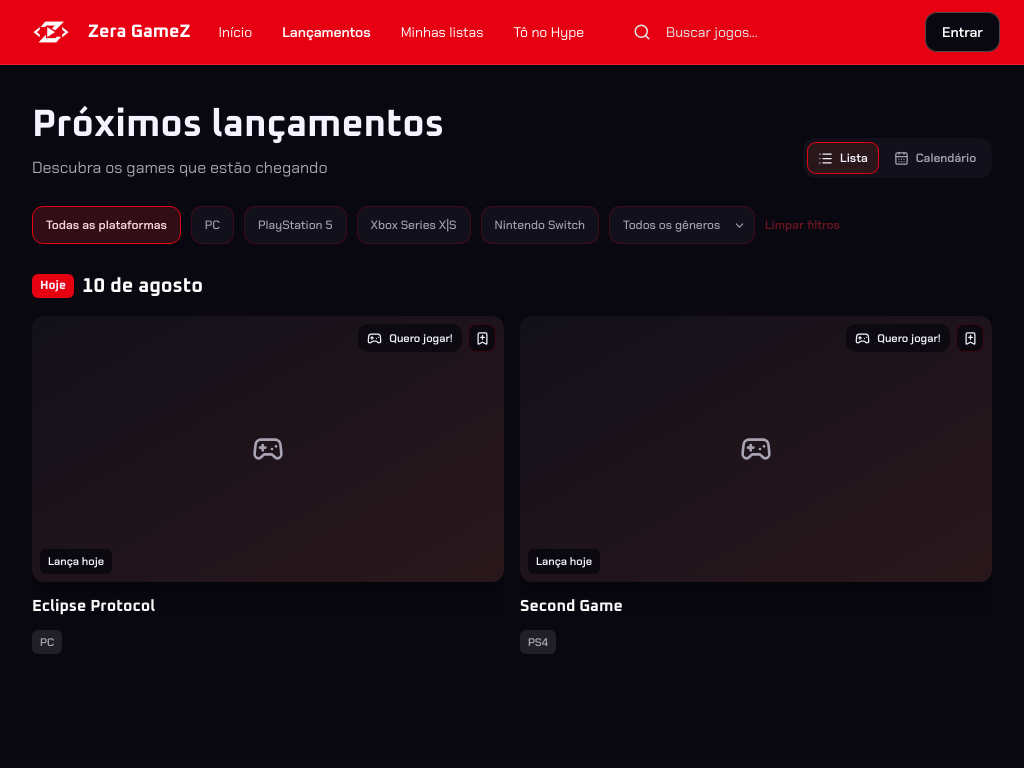
it: Zera GameZ › reopens on the selected date month after choosing an adjacent-month day
The image size is (1024, 768).
Click the button "Calendário": click(935, 158) [883,142,987,174]
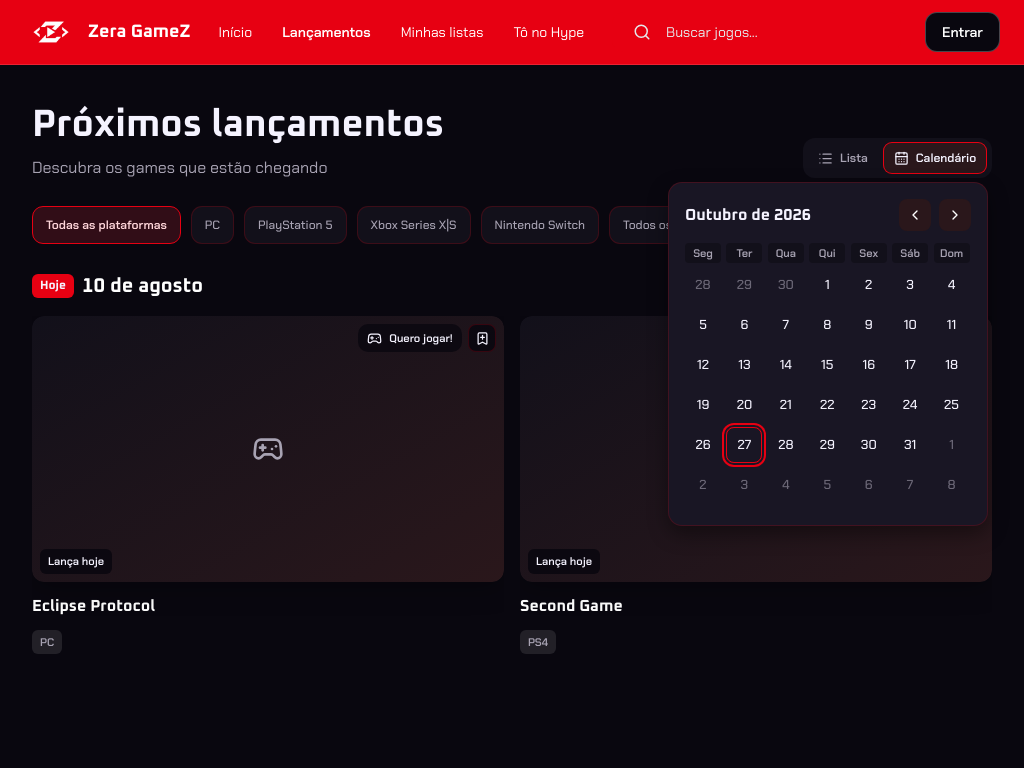
Click the 1st button "28": click(703, 285) [685,267,721,303]
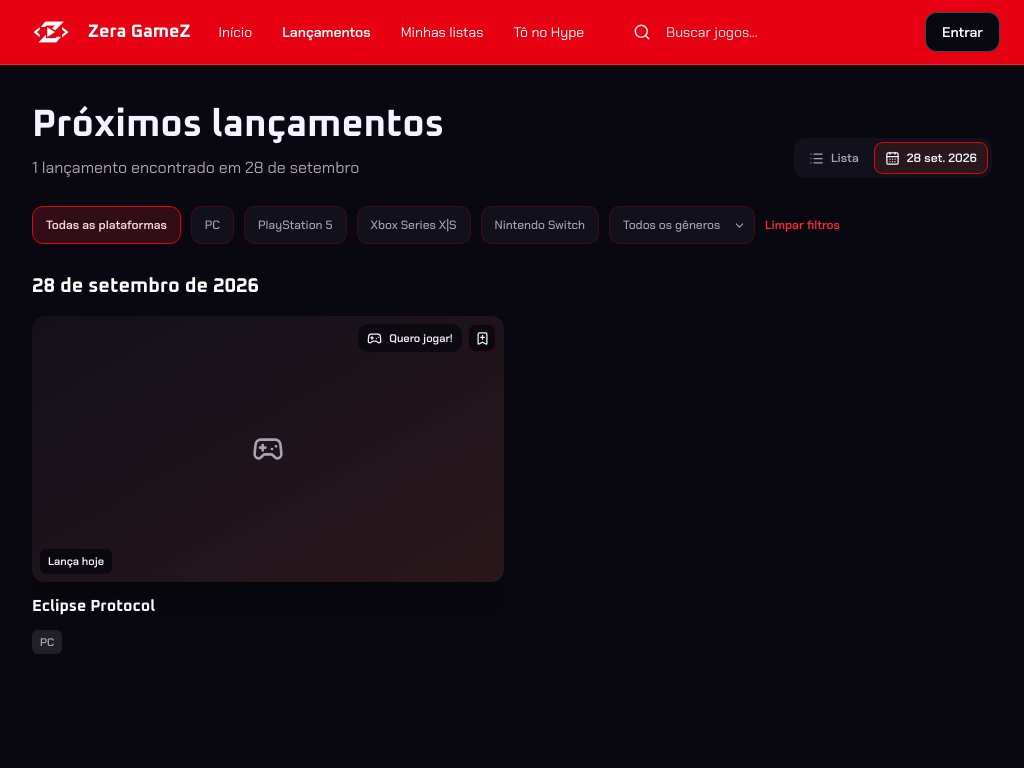
Click the button "28 set. 2026": click(931, 158) [874,142,988,174]
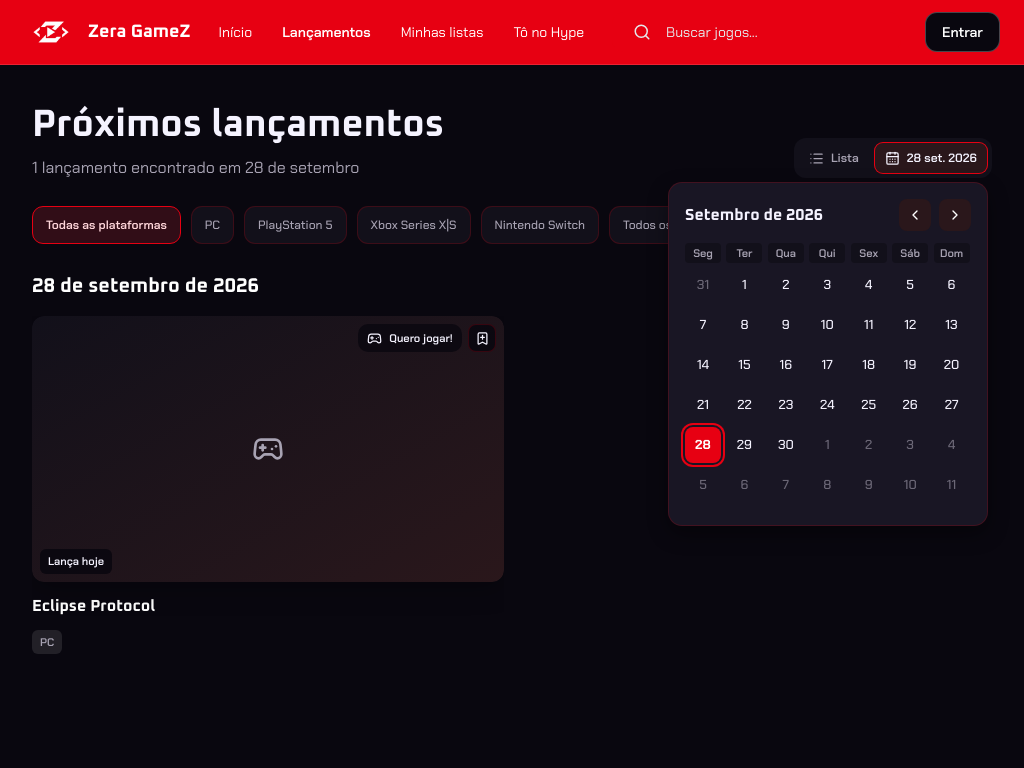
Result: the dialog "Setembro de 2026" is shown at [668,182,988,526]
